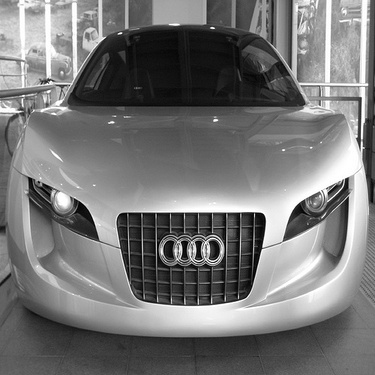car: (2, 5, 367, 369), (1, 44, 78, 83), (328, 1, 369, 39)
